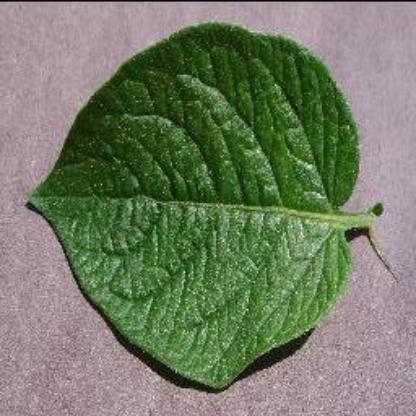Healthy-plant: (29, 17, 361, 381)
